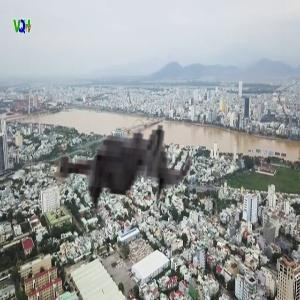drone: (33, 94, 199, 260)
